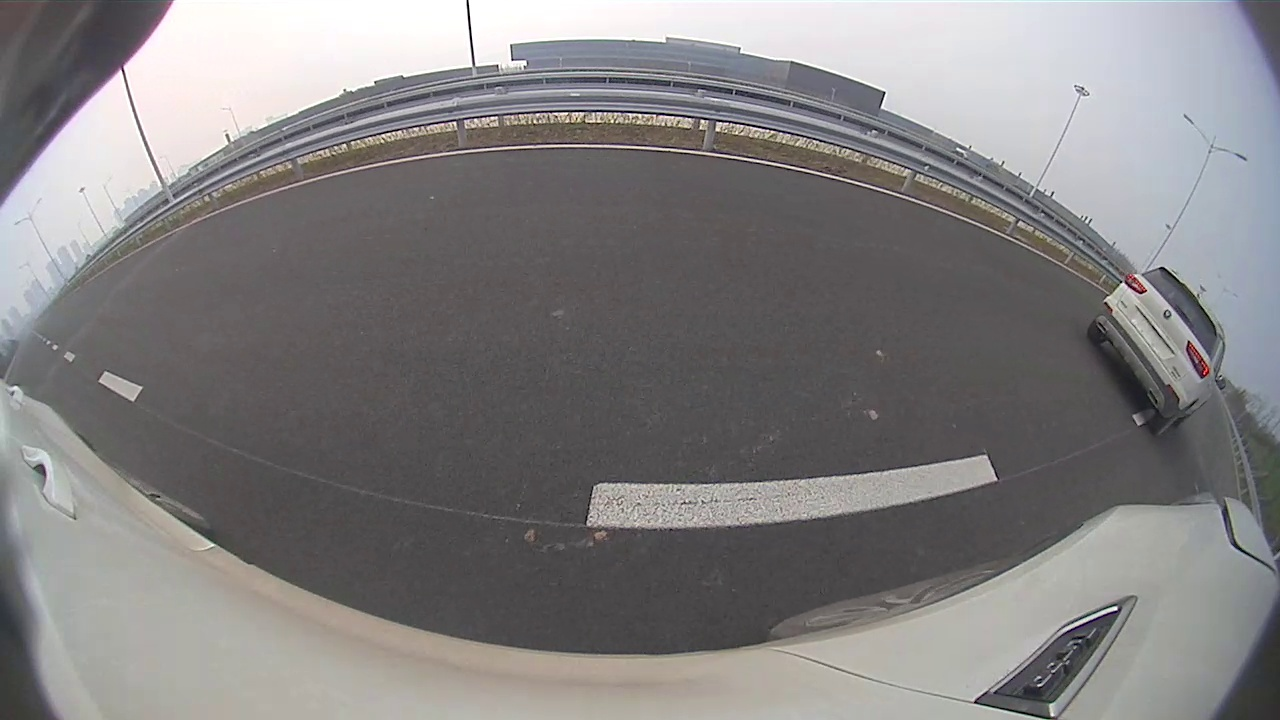car: (1085, 265, 1227, 434)
rear: (1152, 408, 1185, 435)
